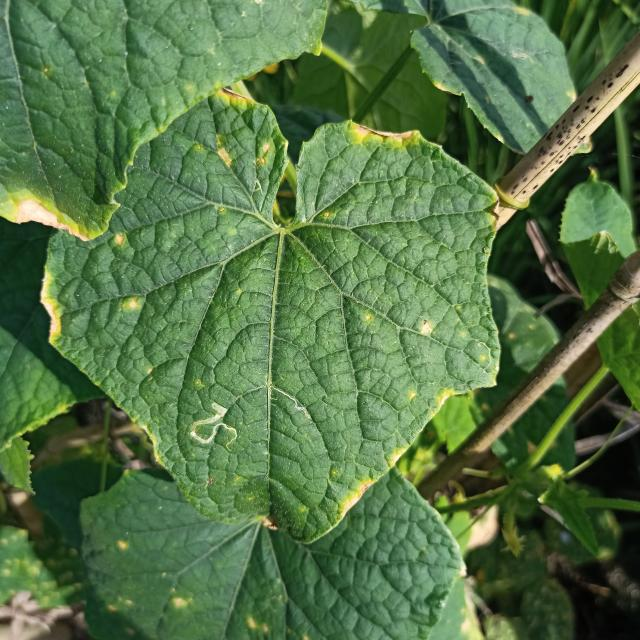disease_cucumber: (214, 137, 273, 175), (409, 386, 457, 418), (122, 293, 141, 313), (111, 230, 127, 249), (419, 318, 434, 338)
